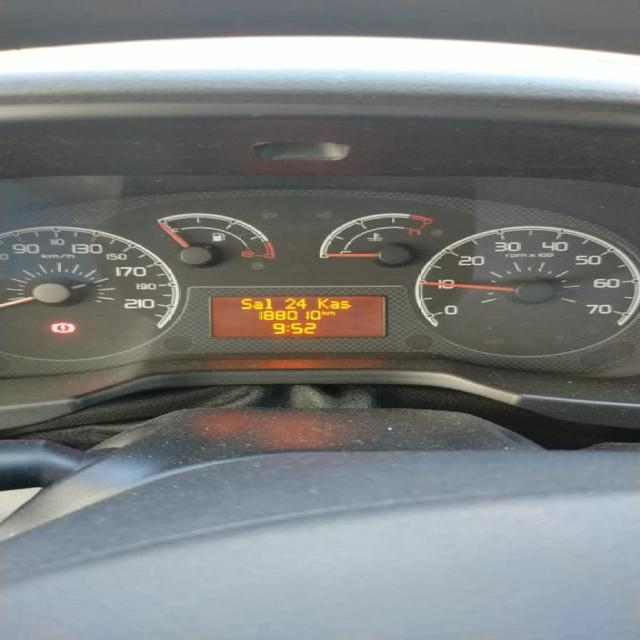odometer: (206, 294, 386, 338)
